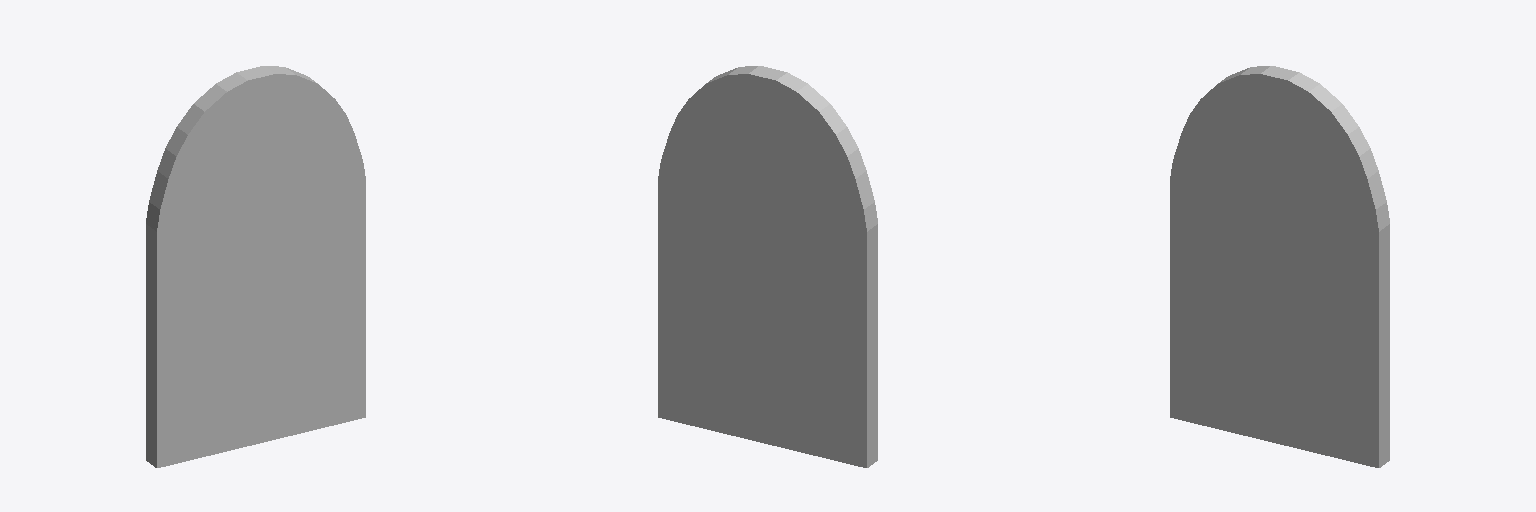
The model's file is envi2-pintu-3-1.obj.
The picture shows the model from 3 angles: view 1: azimuth 30°, elevation 25°; view 2: azimuth 150°, elevation 25°; view 3: azimuth 330°, elevation 25°; orthographic projection.
Parts seen in each view (by area): view 1: Cube.034_Cube.001_Cube.034_Cube.001; view 2: Cube.034_Cube.001_Cube.034_Cube.001; view 3: Cube.034_Cube.001_Cube.034_Cube.001.
Part boxes in pixels (x1,y1,x2,y2): Cube.034_Cube.001_Cube.034_Cube.001: (146, 66, 365, 467); Cube.034_Cube.001_Cube.034_Cube.001: (658, 66, 877, 467); Cube.034_Cube.001_Cube.034_Cube.001: (1170, 66, 1389, 467).
Size of the model in its own units: 4.91 by 8.2 by 0.459.